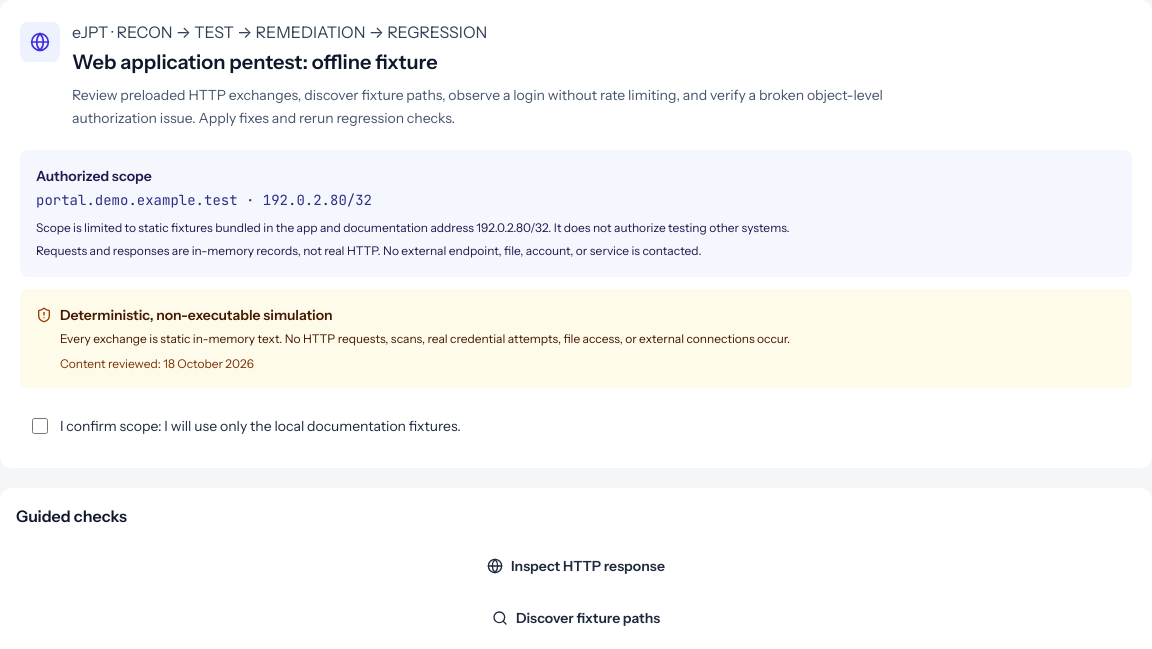
WebApplicationLab › renders English content and performs the deterministic discovery exercise
Expected: the heading "Web application pentest: offline fixture" is shown, [72, 50, 438, 74]
Expected: the text "No HTTP requests, scans, real credential attempts" is shown, [60, 330, 790, 346]
What coordinates should you click on to do the following:
click the checkbox labelled "I confirm scope"
I would click on:
 (40, 426)
Its box is [32, 418, 48, 434].
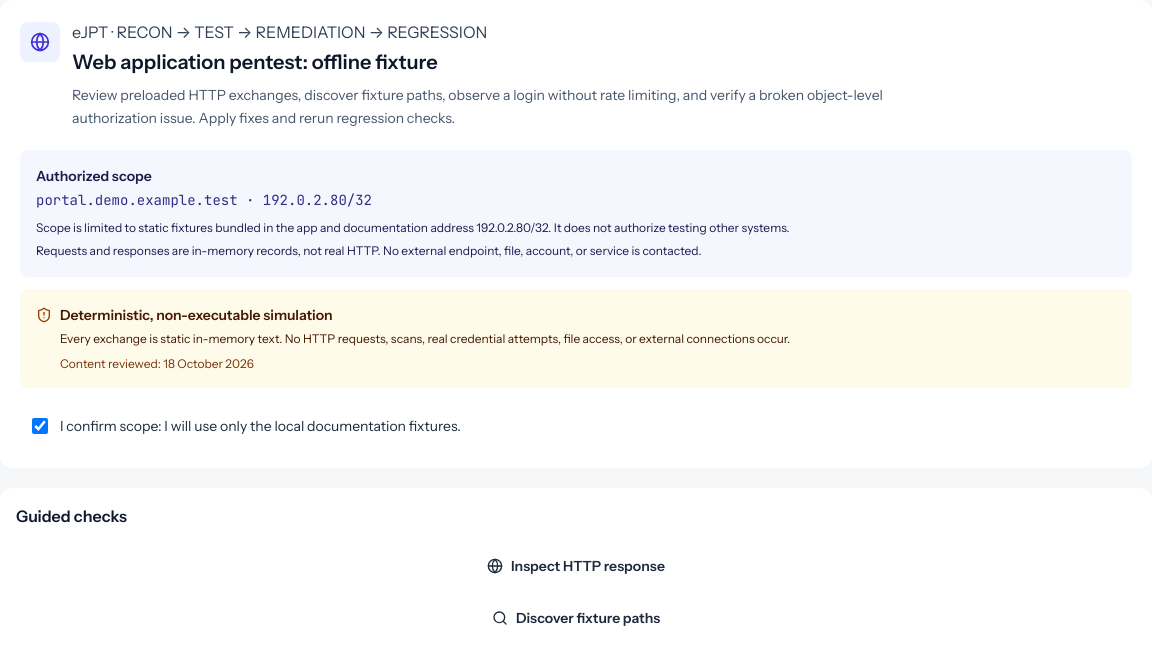
What coordinates should you click on to do the following:
click the button "Discover fixture paths"
I would click on:
 (576, 618)
Its box is [16, 596, 1136, 640].
(page scrolled)
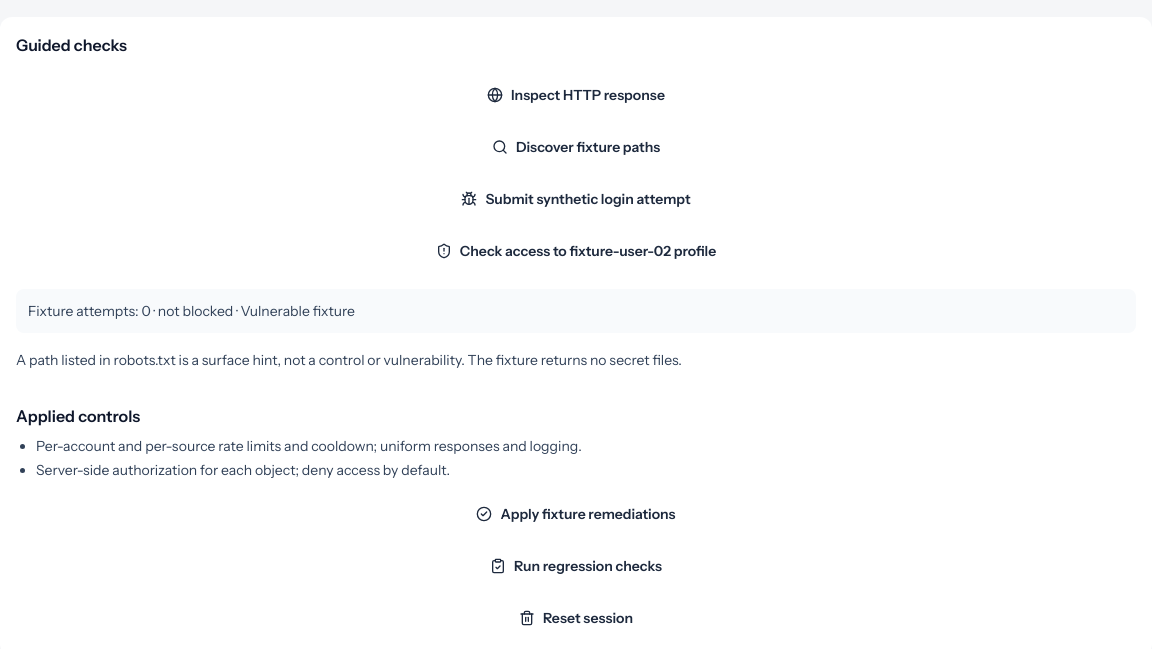
Now the text "A path listed in robots.txt is a surface hint" is shown, box [16, 351, 682, 369]
